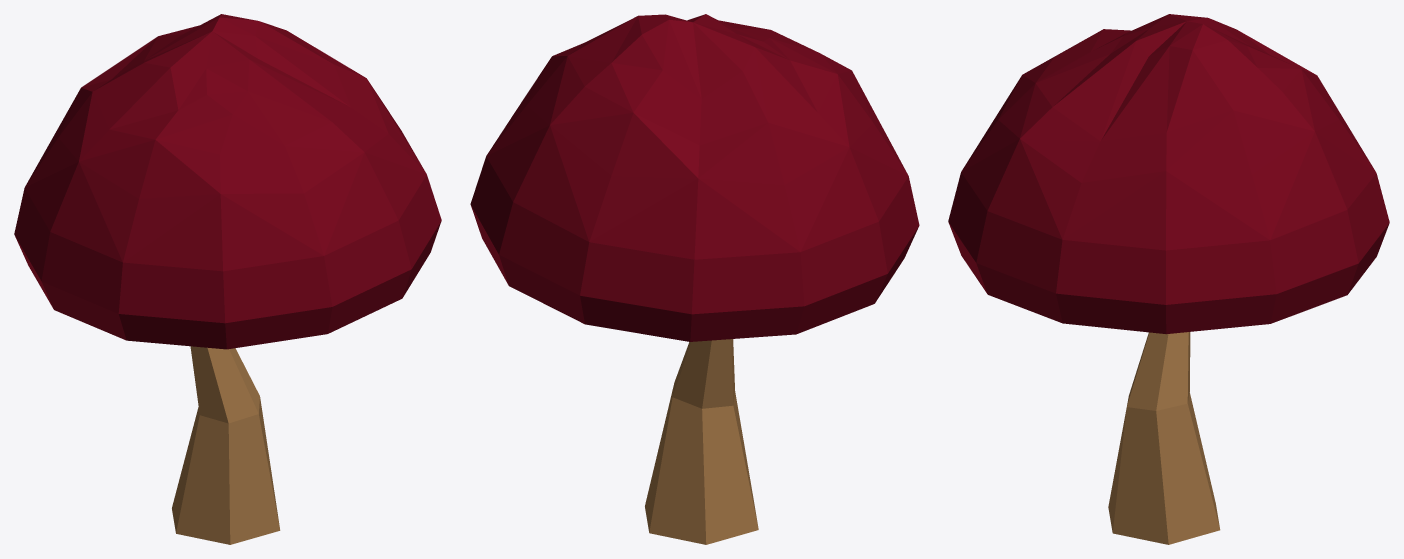
File: Mushroom_1.fbx
3 views of the same model, side by side, from view 1: azimuth 30°, elevation 25°; view 2: azimuth 150°, elevation 25°; view 3: azimuth 270°, elevation 25° (orthographic). The views are drawn at different scales.
Parts seen in each view (by area): view 1: Mushroom_1; view 2: Mushroom_1; view 3: Mushroom_1.
Part boxes in pixels (x1,y1,x2,y2): Mushroom_1: (14,14,441,544); Mushroom_1: (470,14,919,544); Mushroom_1: (948,14,1389,544).
Size of the model in its own units: 62.14 by 77.86 by 62.23.
